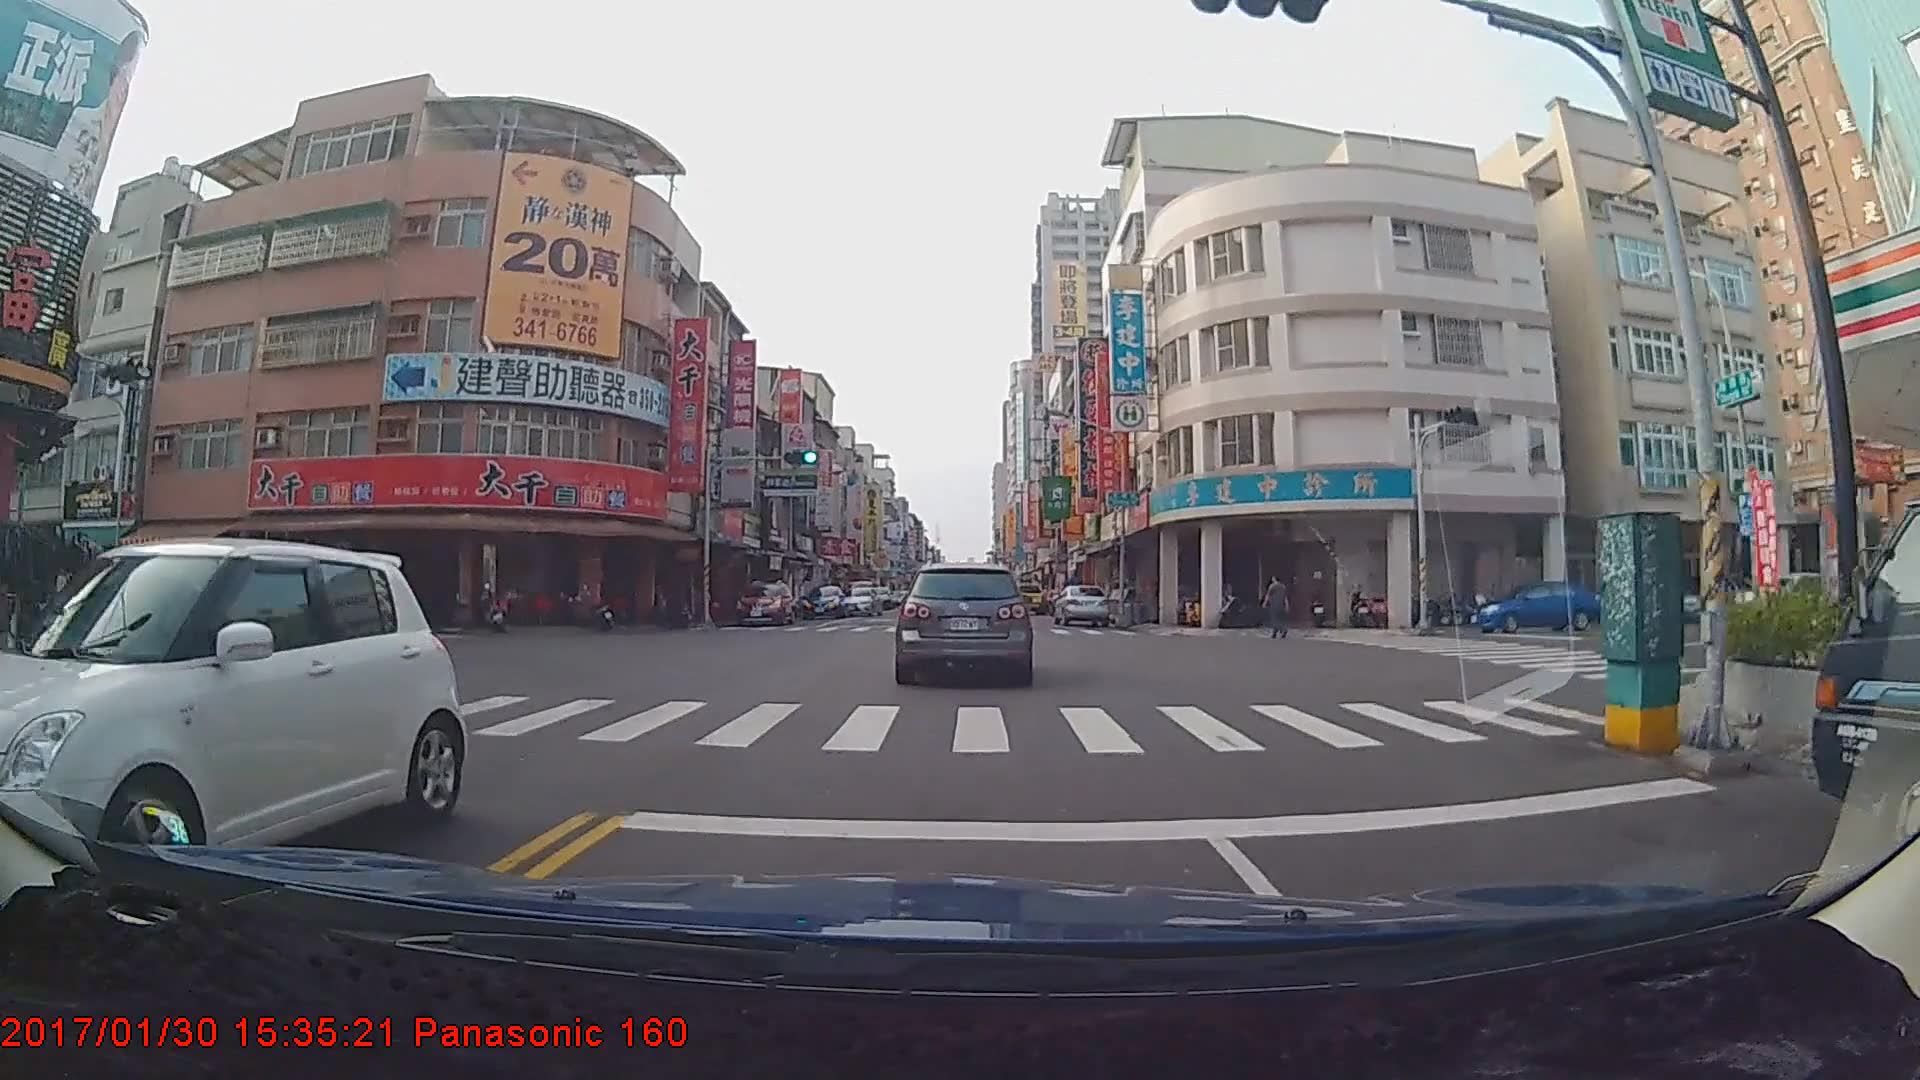pedestrian: (1264, 575, 1292, 644)
vehicle: (0, 535, 467, 921), (894, 562, 1033, 685), (1470, 581, 1601, 634), (737, 577, 795, 626), (1050, 580, 1111, 624), (800, 581, 847, 616), (837, 585, 882, 614), (1009, 581, 1046, 614)
